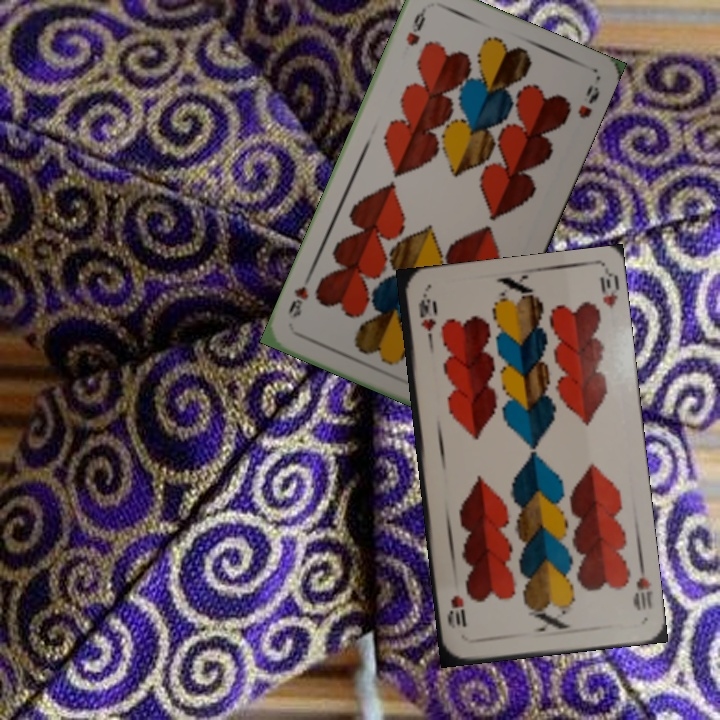H10: (628, 558, 655, 613), (414, 291, 437, 350)
H9: (402, 4, 429, 49)
